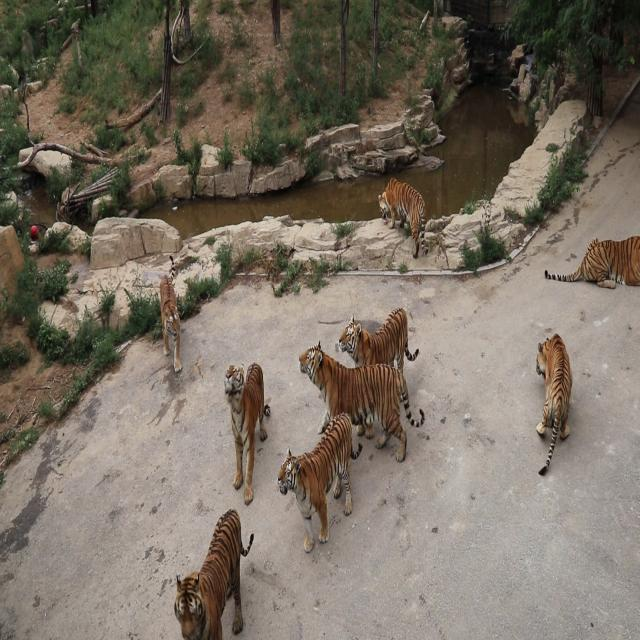Tiger: (298, 339, 426, 463), (275, 411, 365, 554), (172, 510, 255, 640), (223, 362, 272, 507), (149, 245, 200, 384), (371, 171, 435, 264), (337, 305, 420, 375), (532, 332, 572, 476), (542, 235, 639, 288)
